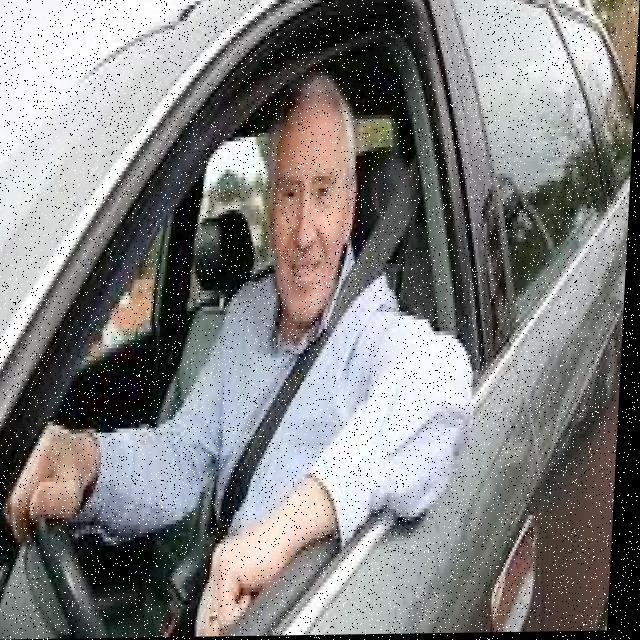seatbelt: (207, 230, 400, 564)
